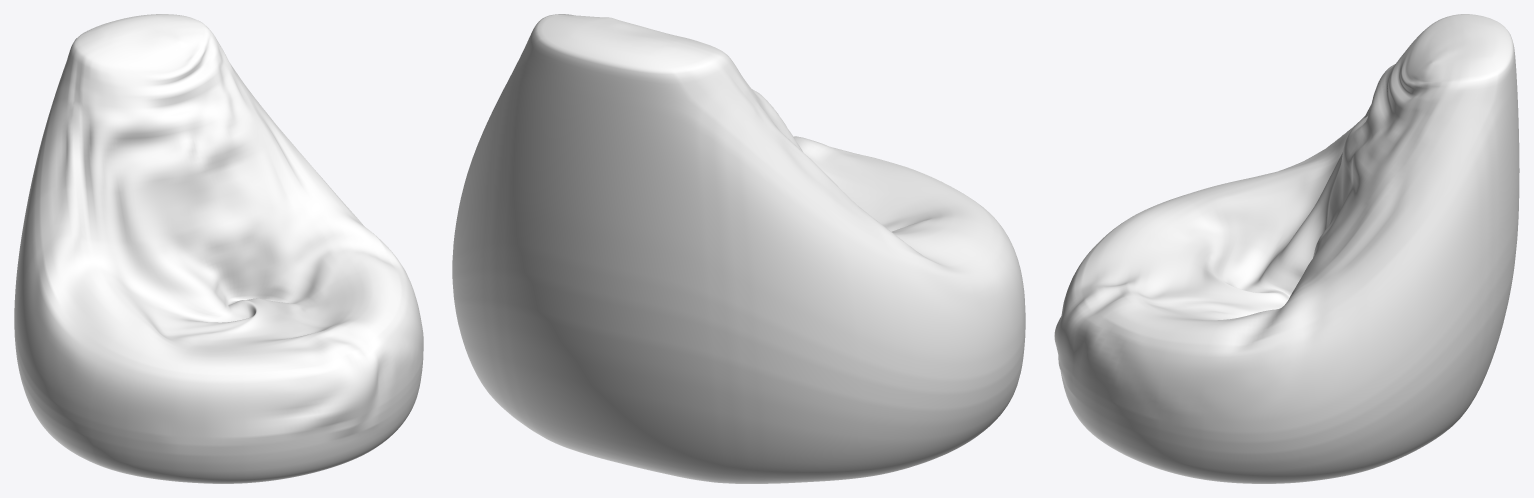
Rendered from bean bag.fbx.
3 renders of one model, left to right at view 1: azimuth 30°, elevation 25°; view 2: azimuth 150°, elevation 25°; view 3: azimuth 270°, elevation 25°, orthographic. The views are drawn at different scales.
Parts seen in each view (by area): view 1: Bean_Bag; view 2: Bean_Bag; view 3: Bean_Bag.
Boxes of the visible parts, <box> form: Bean_Bag: <box>14,14,423,483</box>; Bean_Bag: <box>452,14,1025,483</box>; Bean_Bag: <box>1054,14,1519,483</box>.
Size of what is drawn, in the model's own units: 134 by 115 by 134.
1 material, 1 textured.
